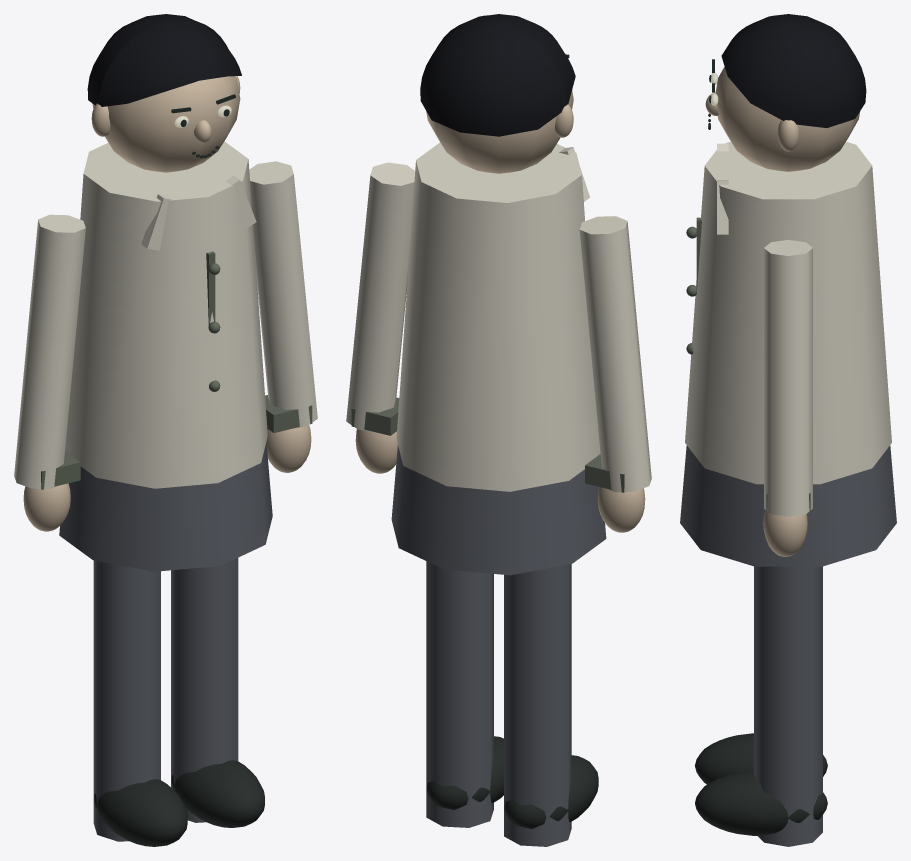
The model's file is npc_Adit.glb.
3 views of the same model, side by side, from view 1: azimuth 30°, elevation 25°; view 2: azimuth 150°, elevation 25°; view 3: azimuth 270°, elevation 25° (orthographic).
Visible parts, largest first — view 1: Source_1020, Source_1021, Source_1022, Source_1024, Source_1023, Source_1025, Source_1028, Source_1045, Source_1027, Source_1044, Source_1042, Source_1043; view 2: Source_1020, Source_1022, Source_1021, Source_1024, Source_1028, Source_1023, Source_1025, Source_1045, Source_1027, Source_1044, Source_1042; view 3: Source_1020, Source_1024, Source_1021, Source_1025, Source_1028, Source_1045, Source_1027, Source_1044, Source_1042, Source_1030, Source_1043.
Boxes of the visible parts, x1,y1,x2,y2 form: Source_1020: (65,141,267,488); Source_1021: (59,442,272,571); Source_1022: (93,560,160,841); Source_1024: (171,558,238,822); Source_1023: (14,214,85,489); Source_1025: (249,161,317,427); Source_1028: (87,14,241,106); Source_1045: (94,760,264,846); Source_1027: (92,76,240,172); Source_1044: (23,425,311,531); Source_1042: (41,251,312,489); Source_1043: (141,175,256,250); Source_1020: (396,142,600,491); Source_1022: (504,564,571,846); Source_1021: (391,445,606,575); Source_1024: (426,561,493,827); Source_1028: (420,14,575,136); Source_1023: (579,216,651,492); Source_1025: (346,162,415,431); Source_1045: (426,736,598,828); Source_1027: (426,90,573,173); Source_1044: (355,429,645,532); Source_1042: (351,397,624,492); Source_1020: (685,141,891,484); Source_1024: (754,566,822,846); Source_1021: (680,445,896,566); Source_1025: (764,240,812,516); Source_1028: (721,14,866,127); Source_1045: (695,733,827,835); Source_1027: (715,67,859,171); Source_1044: (763,510,807,556); Source_1042: (686,217,810,511); Source_1030: (777,120,799,151); Source_1043: (717,143,728,234).
Bounding box in the file's own units: 0.6954 × 1.77 × 0.44.
